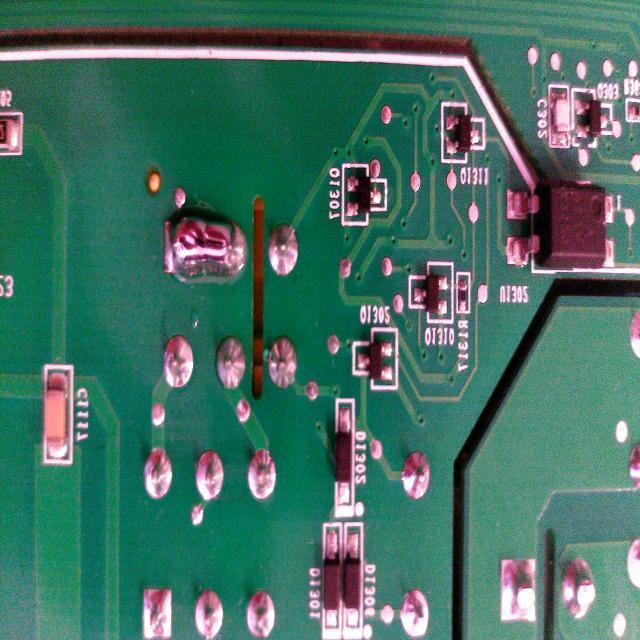Soldering shorted: (161, 207, 251, 284)
